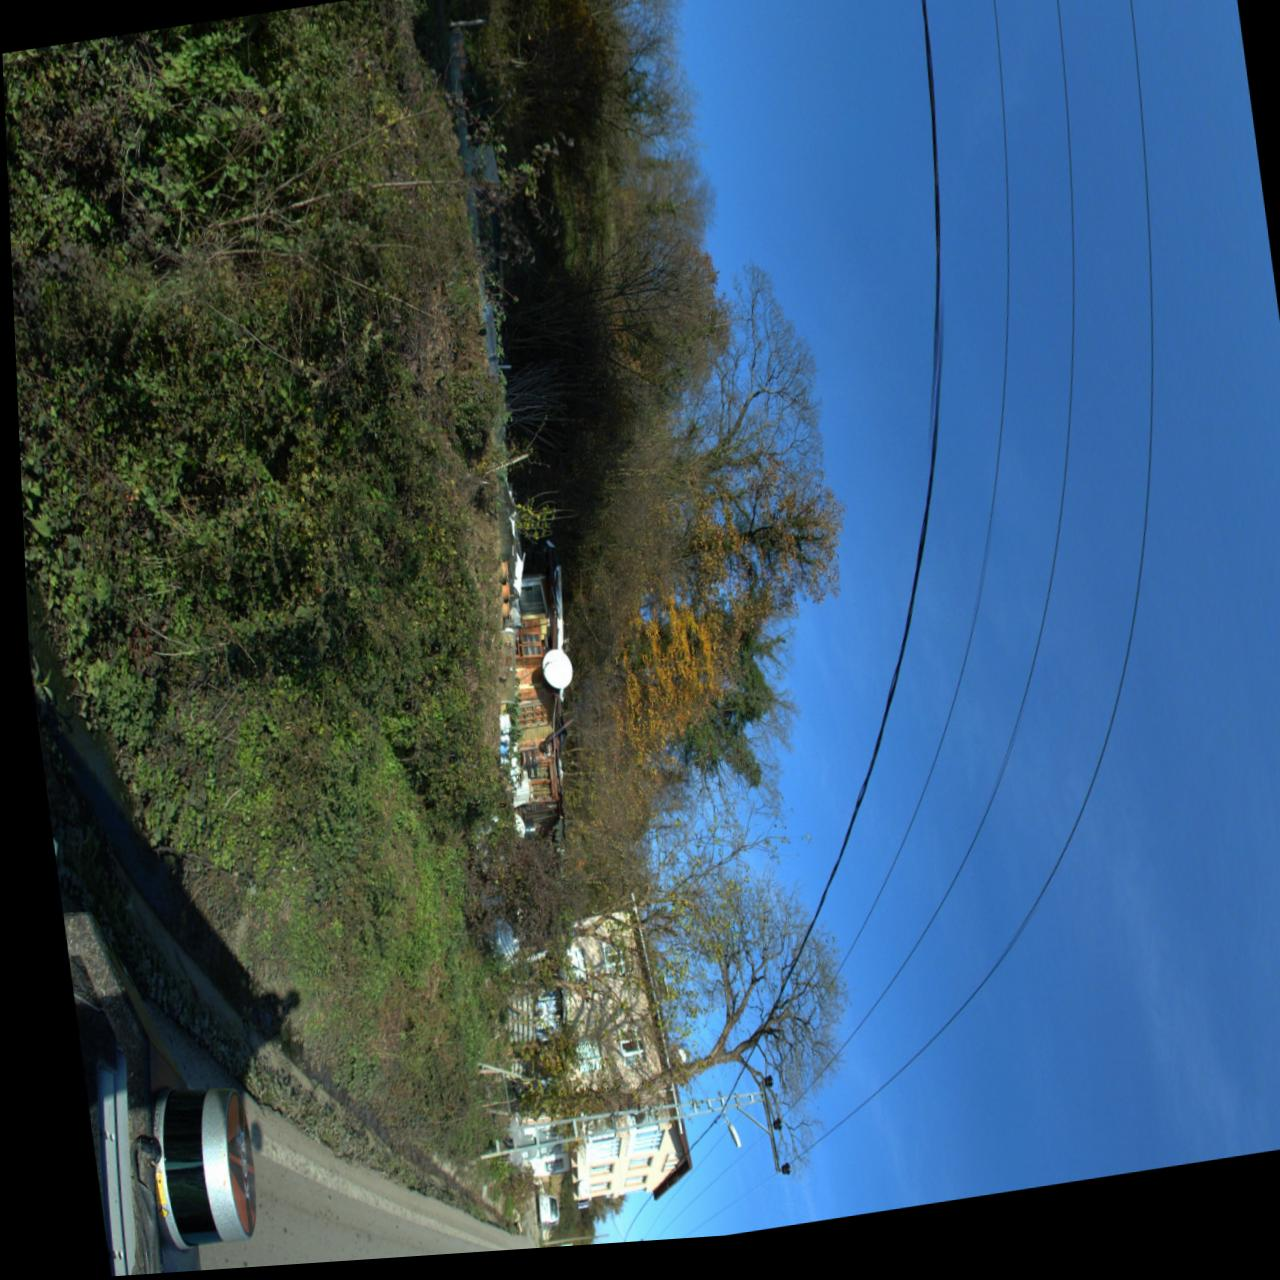Utility Pole Information Plate: (563, 1145, 570, 1149)
